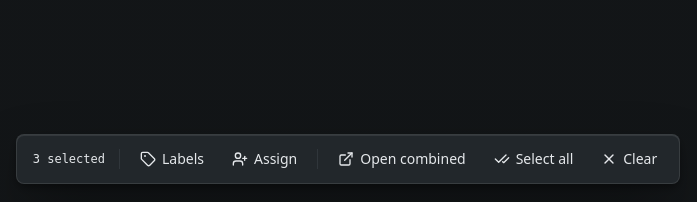
it: BulkActionBar › opening one menu closes the others (mutual exclusion)
Step 1. Click the button with test id "bulk-labels" → (172, 159), box [130,143,214,175]
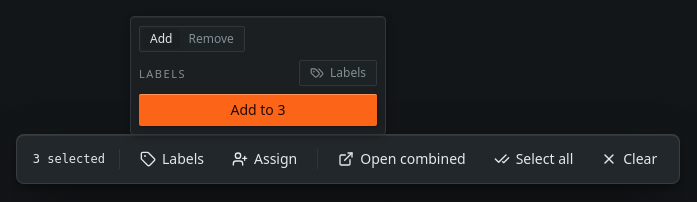
Expected: the button with test id "bulk-apply-labels" is shown, [139,94,377,126]
Step 2. Click the button with test id "bulk-assign" → (265, 159), box [222,143,307,175]
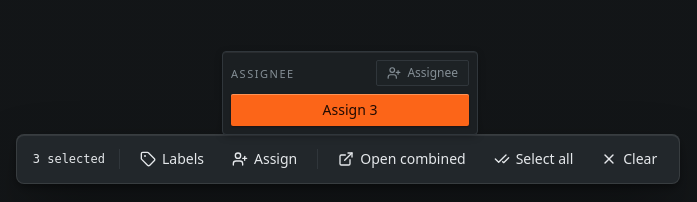
Expected: the button with test id "bulk-apply-assignee" is shown, [231,94,469,126]
